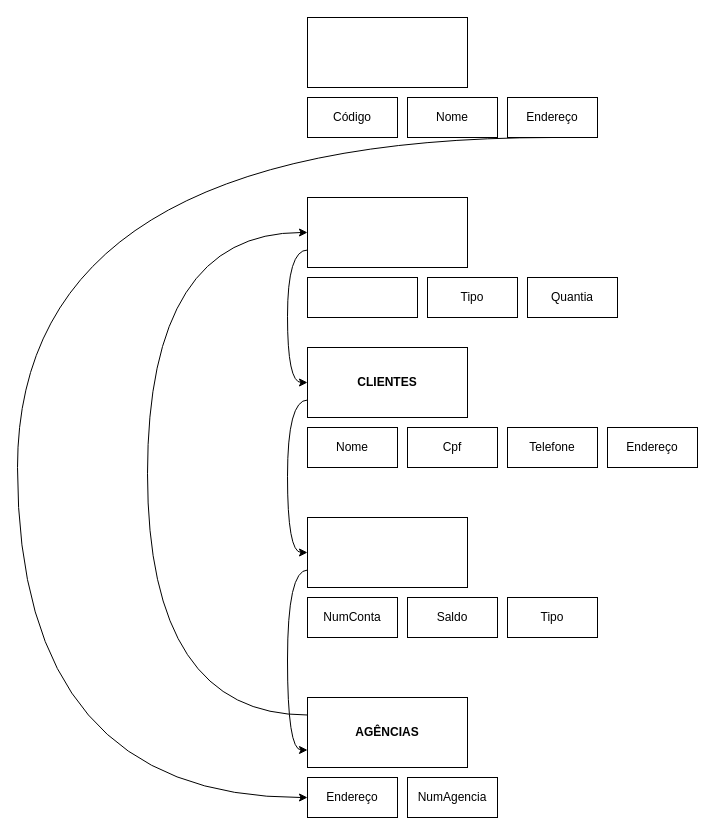
The diagram is 715 pixels wide and 835 high, and some of its shapes have lost their labels. The centre of each missing label's shape, as x and y in pixels:
"BANCOS" belongs at (x=387, y=52).
"CONTAS" belongs at (x=387, y=552).
"EMPRESTIMOS" belongs at (x=387, y=232).
"NumEmpresstimo" belongs at (x=362, y=297).
